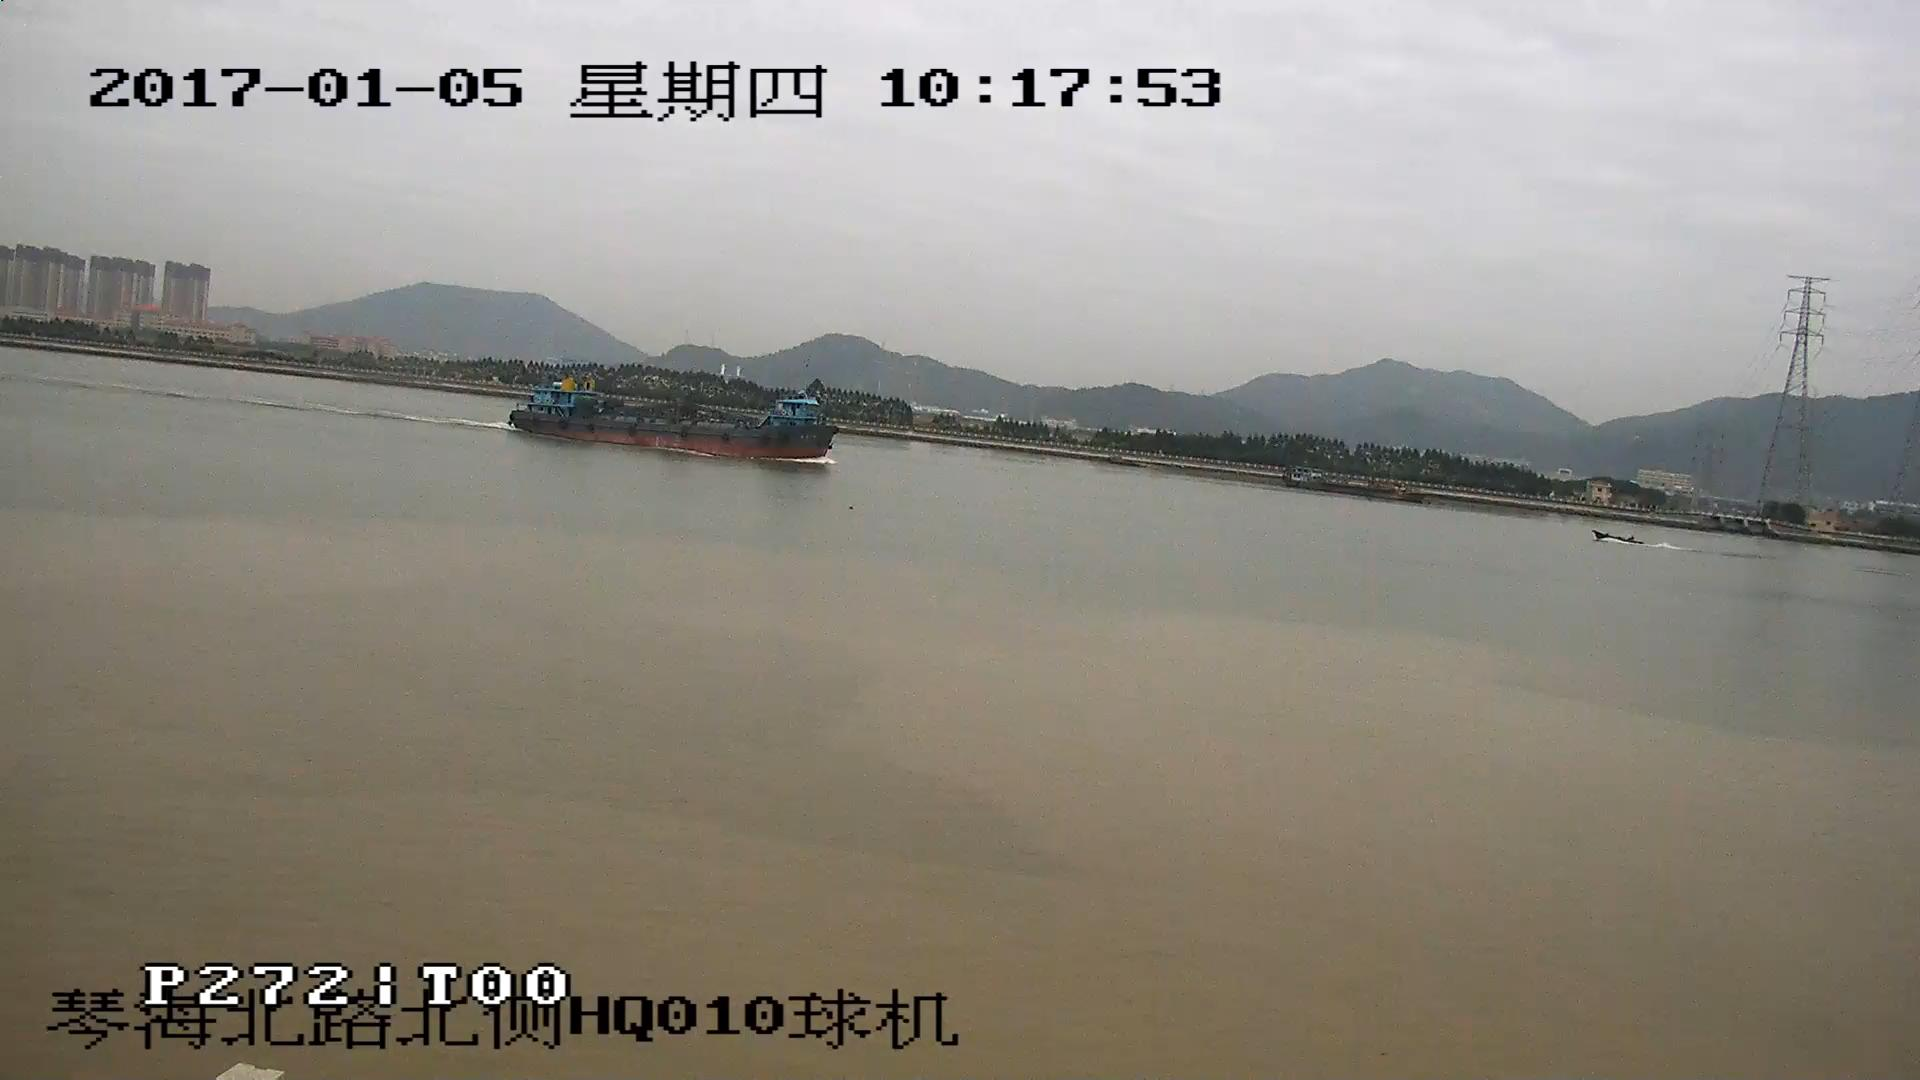bulk cargo carrier: (516, 368, 831, 463)
